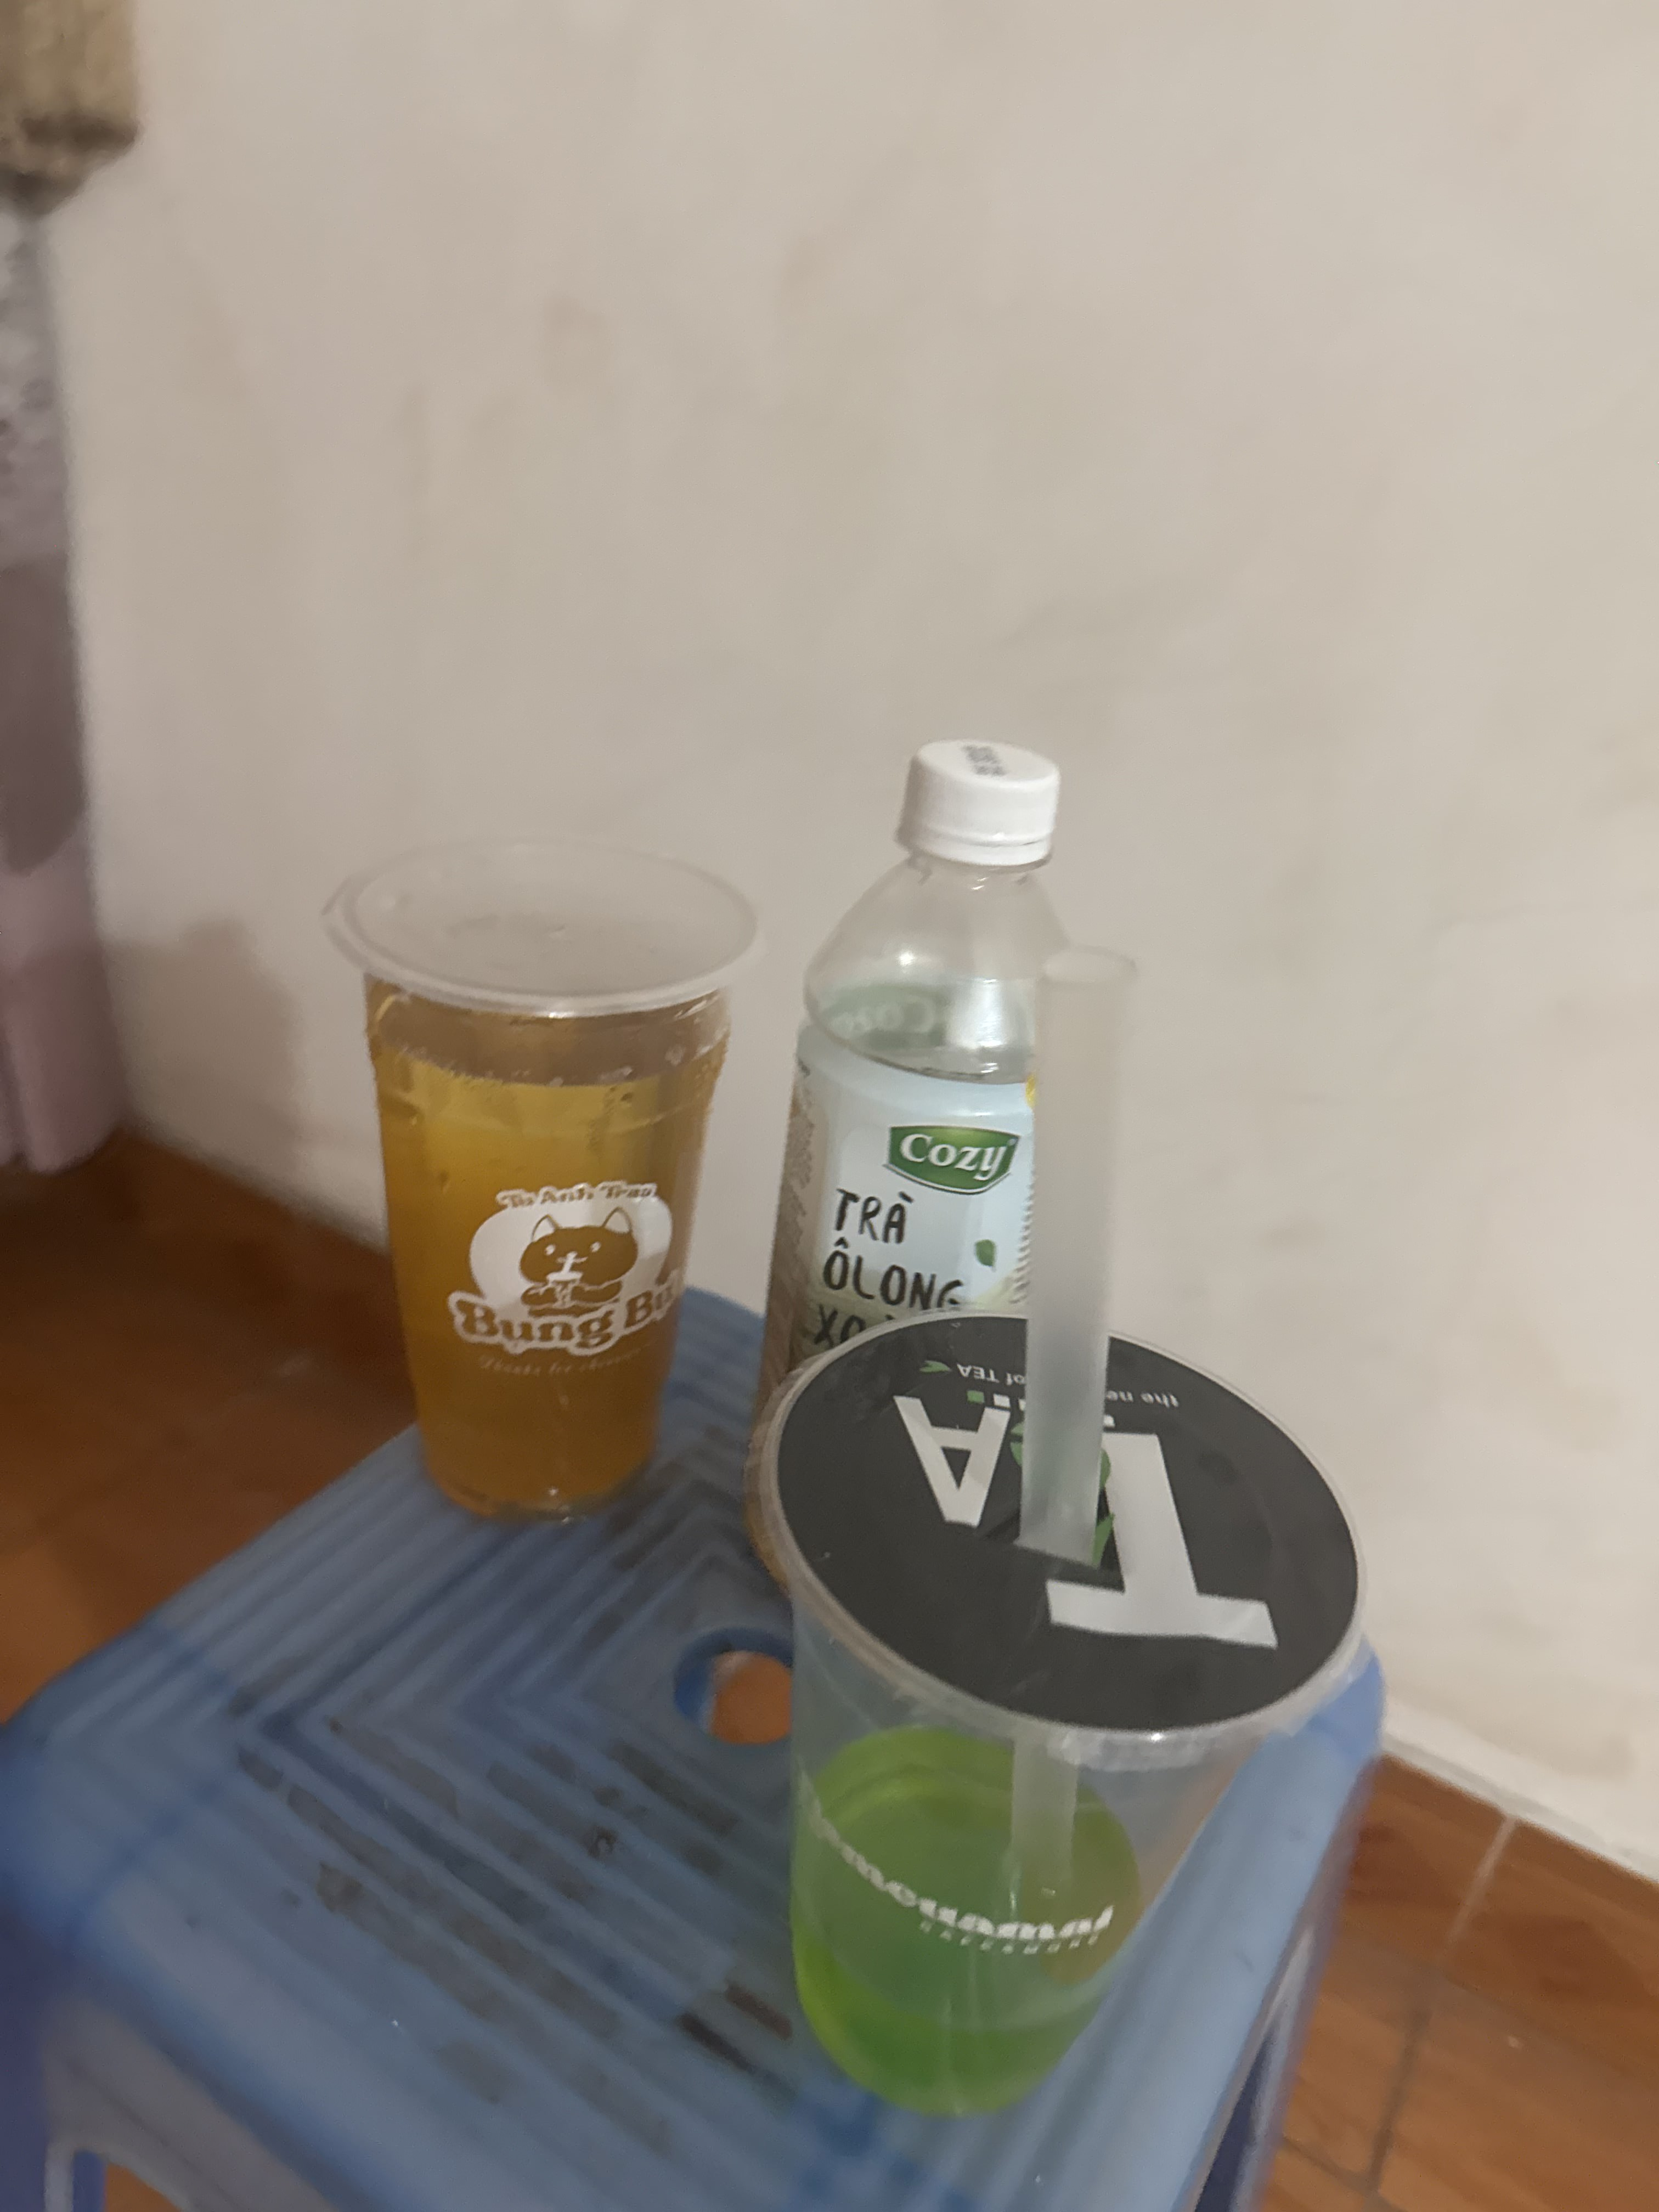bottle: (765, 719, 1096, 1517)
cup: (762, 1303, 1366, 2128), (305, 806, 765, 1540)
